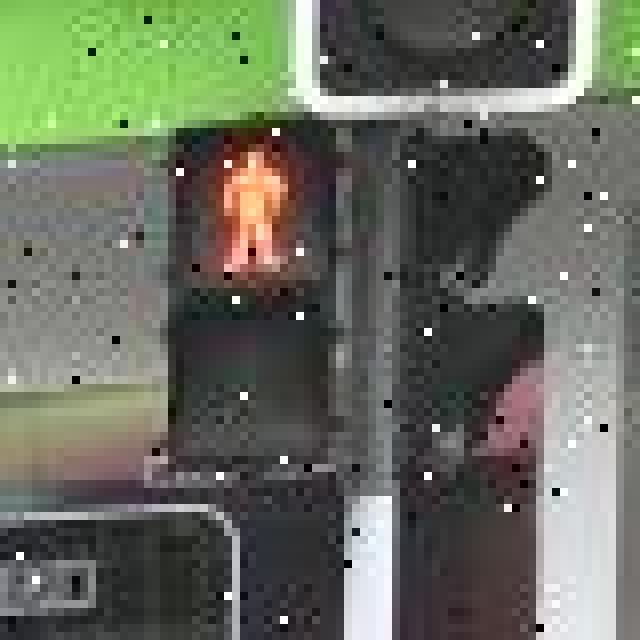redlight: (144, 96, 360, 480)
